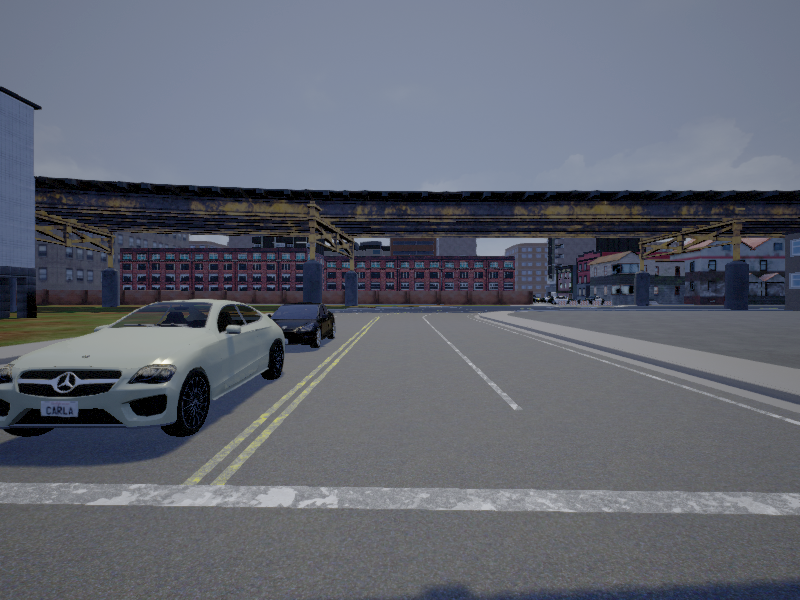Benign: (1, 297, 285, 437), (265, 303, 336, 347)
